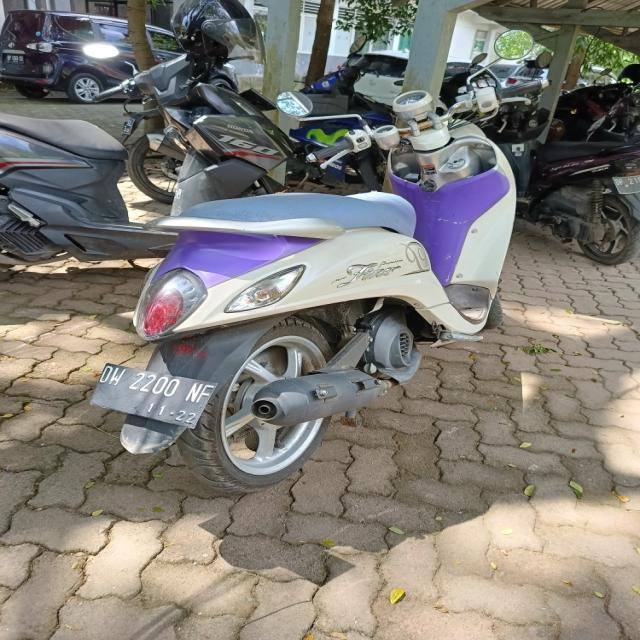plates: (96, 360, 211, 424)
